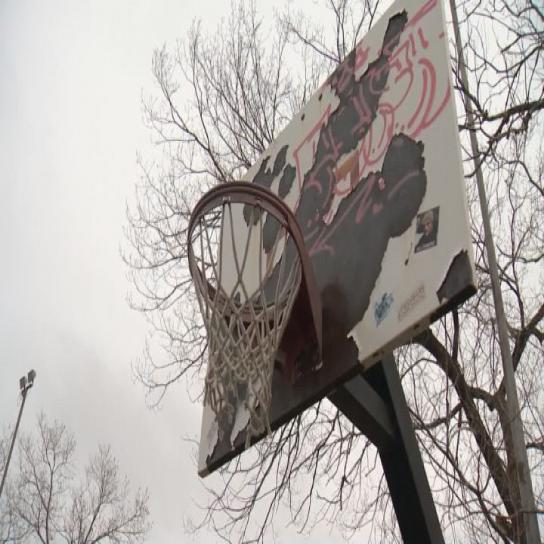basketball-hoop: (182, 176, 305, 446)
